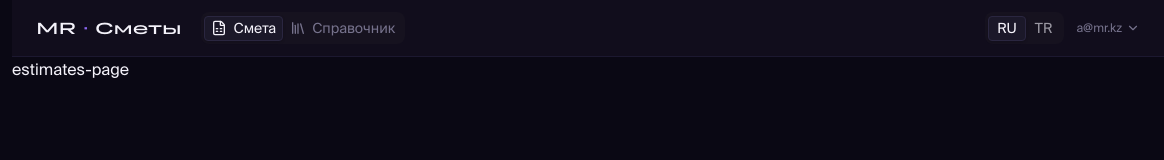
Test: AppShell › таб «Справочник» ведёт на /articles
What coordinates should you click on to do the following:
click the tab "Справочник"
I would click on:
 (343, 28)
Its box is [283,16,402,40].
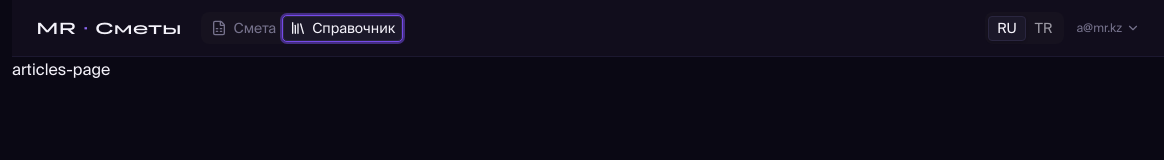
Result: the text "articles-page" is shown at [12,60,110,78]
